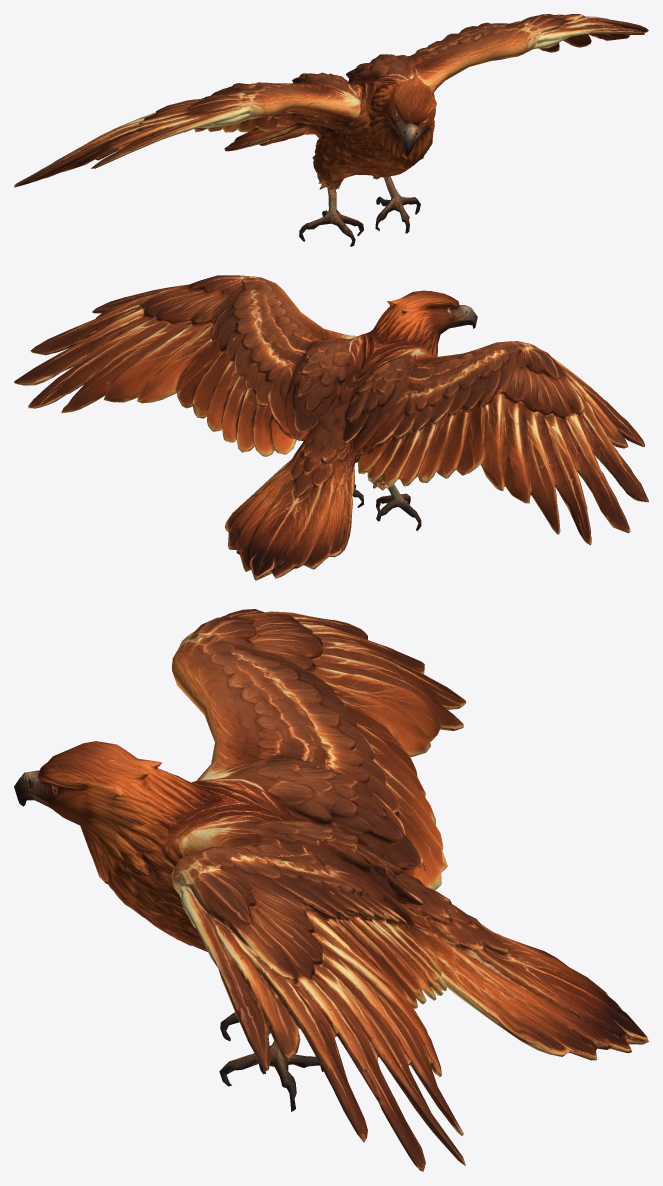
The model's file is blood-hawk.glb.
3 renders of one model, top to bottom at view 1: azimuth 30°, elevation 25°; view 2: azimuth 150°, elevation 25°; view 3: azimuth 270°, elevation 25°, orthographic. The views are drawn at different scales.
Size of the model in its own units: 1.9 by 0.5489 by 0.9996.
1 material, 1 textured.
